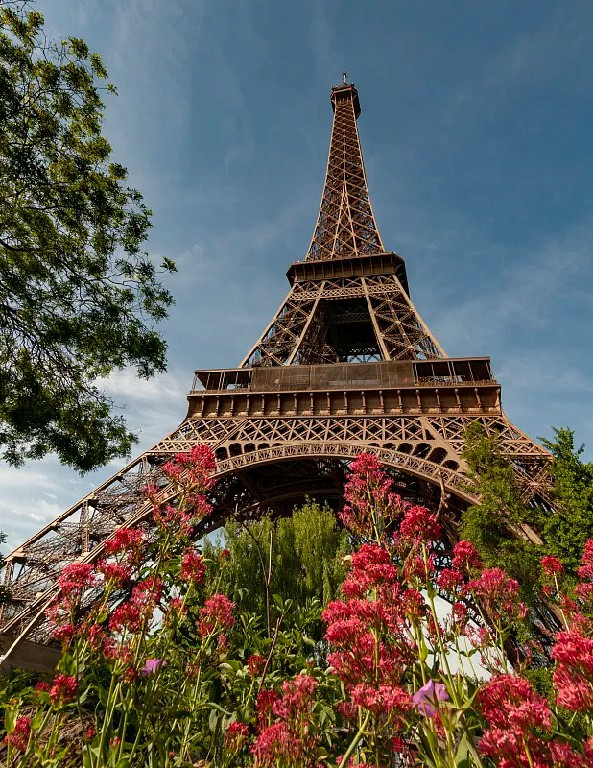Eiffel: (1, 72, 593, 676)
